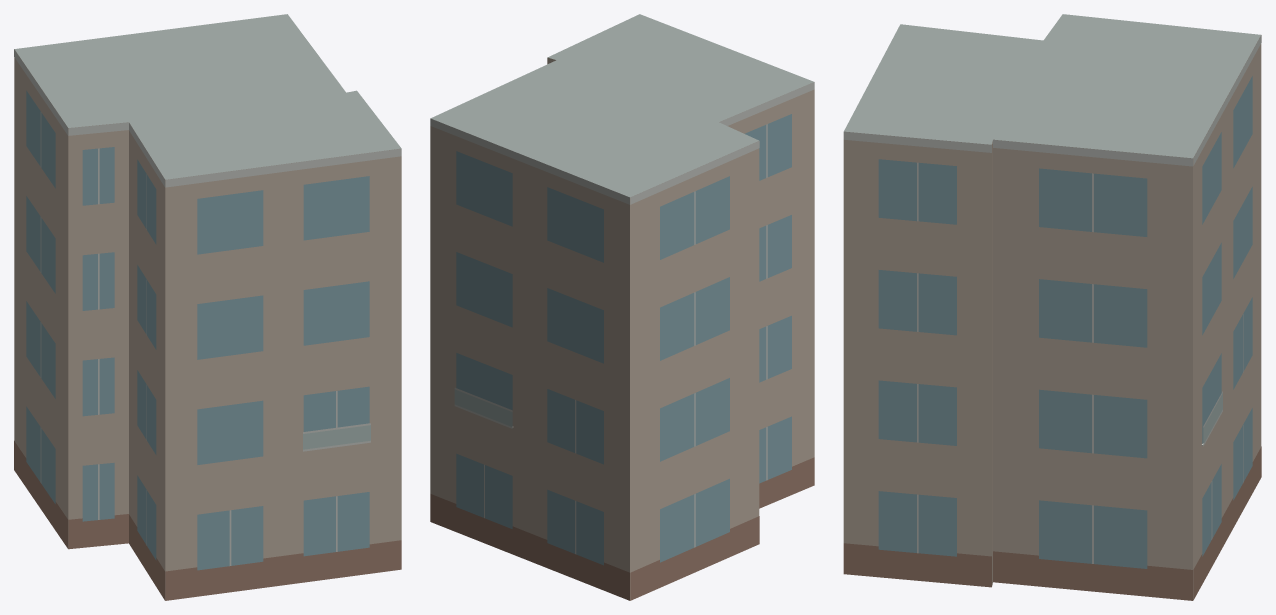
The model's file is survey-upis-32749990.glb.
3 views of the same model, side by side, from view 1: azimuth 30°, elevation 25°; view 2: azimuth 150°, elevation 25°; view 3: azimuth 270°, elevation 25° (orthographic). The views are drawn at different scales.
Parts seen in each view (by area): view 1: survey-upis-32749990.tmp; view 2: survey-upis-32749990.tmp; view 3: survey-upis-32749990.tmp.
Boxes of the visible parts, x1,y1,x2,y2 form: survey-upis-32749990.tmp: [14, 14, 401, 600]; survey-upis-32749990.tmp: [430, 14, 814, 600]; survey-upis-32749990.tmp: [843, 14, 1261, 600].
Bounding box in the file's own units: 9.21 × 13.15 × 11.26.
